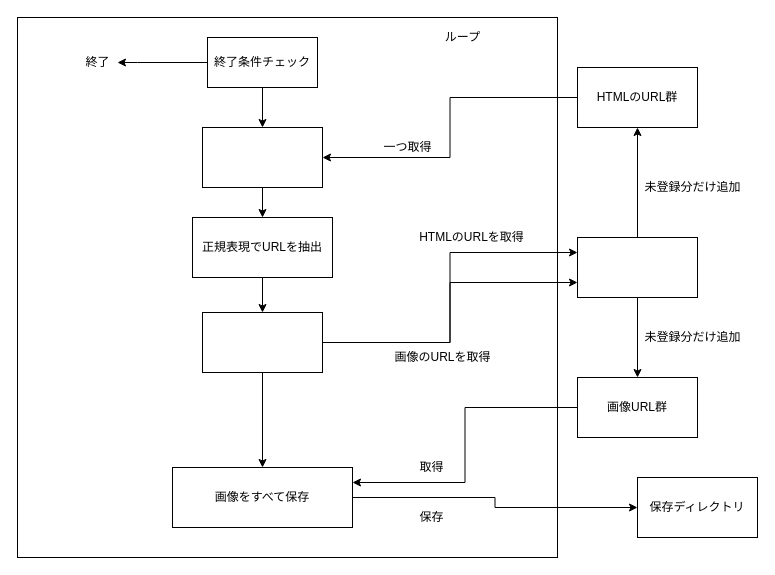
The diagram is 775 pixels wide and 575 high, and some of its shapes have lost their labels. Here are the shapes that lost their labels. From the top down, the centre of each, then its label:
the point at 262,157: HTMLを取得
the point at 637,267: 取得したURL群
the point at 262,342: URLのふるい分け
